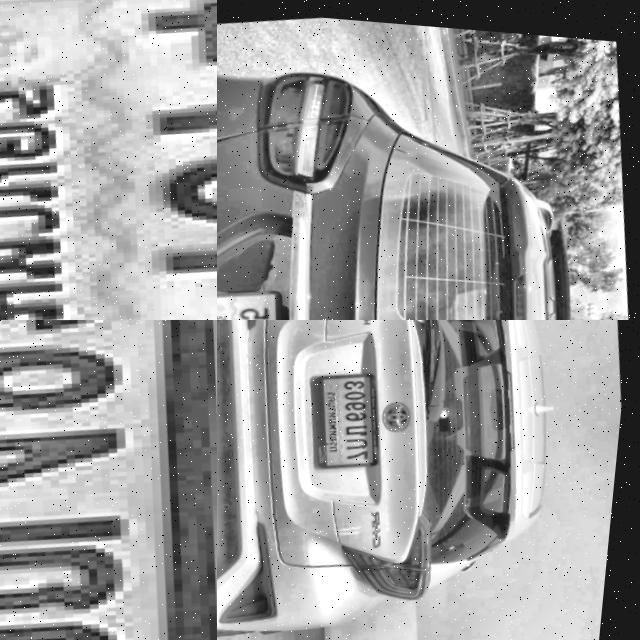license-plate: (0, 0, 217, 320), (0, 320, 217, 640), (300, 353, 400, 474), (217, 273, 313, 320)
